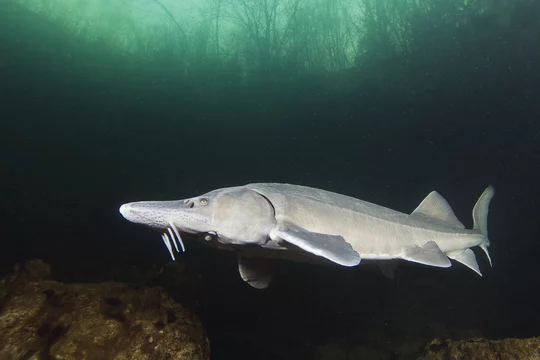Sturgeon: (82, 150, 514, 302)
